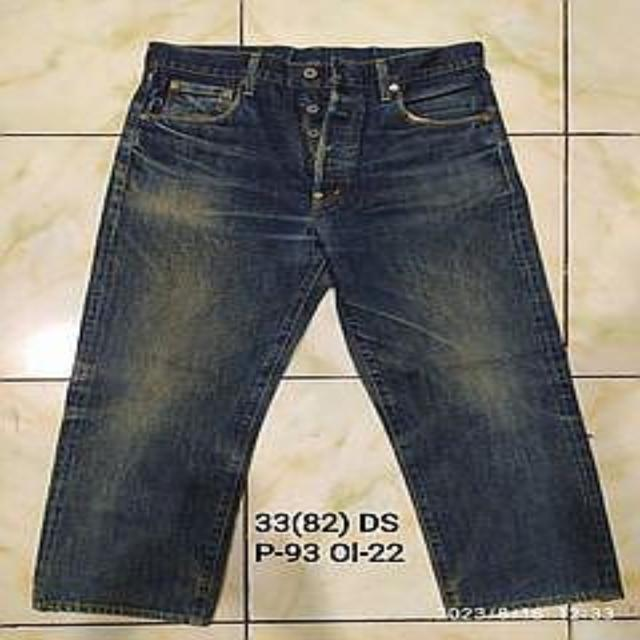TROUSER: (23, 31, 639, 634)
